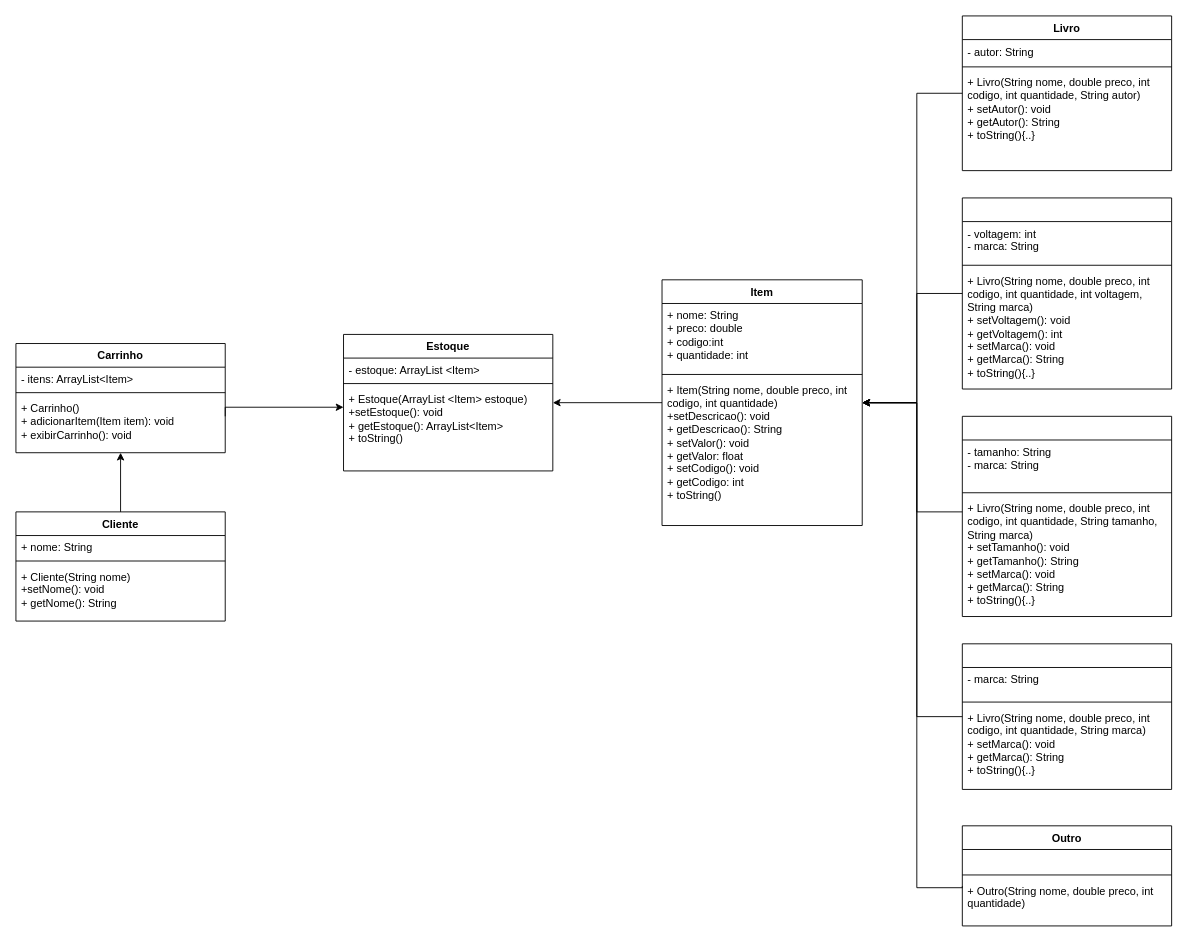
Image size: 1188x945. Some labels were removed from this diagram. The box of each missing label's shape, as (x1, y1, x2, y2) in pixels:
Eletrodomestico: (961, 197, 1172, 389)
Eletrônico: (961, 643, 1172, 789)
Roupas: (961, 415, 1172, 617)
